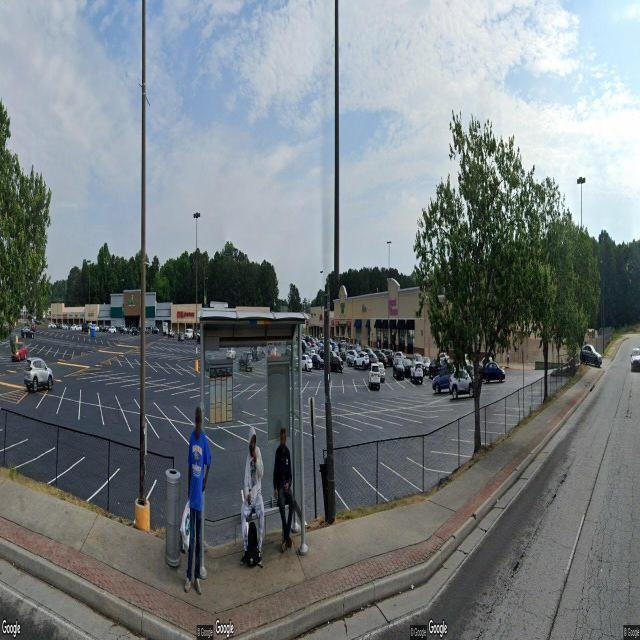seating: (242, 502, 292, 552)
shelter: (199, 306, 306, 554)
trash_can: (166, 467, 180, 568), (320, 456, 336, 524)
